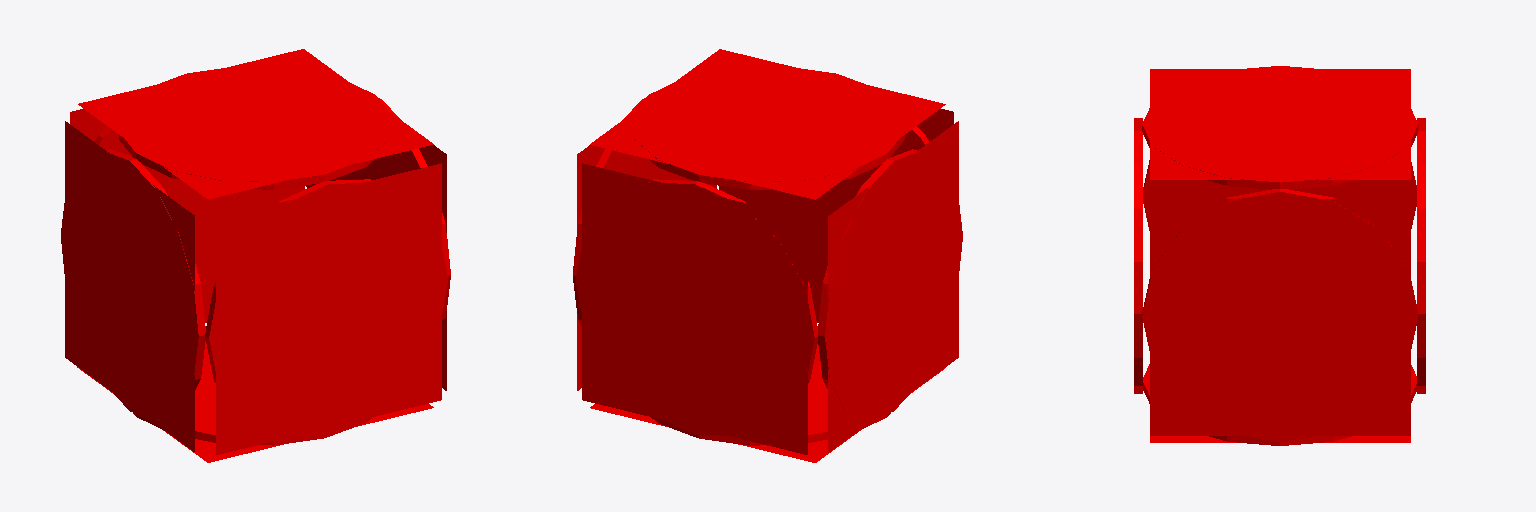
File: game_cube_faces.obj
The picture shows the model from 3 angles: view 1: azimuth 30°, elevation 25°; view 2: azimuth 150°, elevation 25°; view 3: azimuth 270°, elevation 25°; orthographic projection.
Parts seen in each view (by area): view 1: Plane001, Cylinder017, Cylinder015, Plane004, Cylinder014, Plane006, Cylinder016, Cylinder018, Cylinder013, Plane005, Plane003, Plane002; view 2: Cylinder014, Cylinder017, Cylinder015, Plane002, Plane004, Cylinder013, Plane006, Cylinder016, Cylinder018, Plane005, Plane003, Plane001; view 3: Cylinder018, Cylinder015, Plane003, Plane006, Cylinder017, Cylinder013, Cylinder014, Cylinder016, Plane005.
Part boxes in pixels (x1,y1,x2,y2): Plane001: (216, 163, 441, 454); Cylinder017: (61, 149, 205, 420); Cylinder015: (119, 66, 392, 189); Plane004: (65, 121, 194, 451); Cylinder014: (95, 126, 305, 322); Plane006: (78, 49, 433, 199); Cylinder016: (133, 342, 370, 445); Cylinder018: (306, 98, 450, 324); Cylinder013: (205, 179, 447, 435); Plane005: (77, 367, 433, 462); Plane003: (419, 145, 446, 390); Plane002: (70, 109, 106, 141); Cylinder014: (576, 179, 817, 435); Cylinder017: (818, 149, 962, 420); Cylinder015: (631, 66, 904, 189); Plane002: (582, 163, 807, 454); Plane004: (828, 121, 958, 452); Cylinder013: (719, 126, 928, 322); Plane006: (590, 49, 945, 199); Cylinder016: (651, 344, 890, 445); Cylinder018: (573, 98, 716, 325); Plane005: (590, 367, 945, 462); Plane003: (577, 145, 604, 390); Plane001: (917, 109, 953, 141); Cylinder018: (1142, 189, 1417, 441); Cylinder015: (1142, 66, 1417, 189); Plane003: (1150, 199, 1410, 435); Plane006: (1150, 69, 1410, 179); Cylinder017: (1143, 160, 1416, 230); Cylinder013: (1134, 118, 1142, 393); Cylinder014: (1417, 118, 1425, 393); Cylinder016: (1143, 364, 1416, 445); Plane005: (1150, 436, 1410, 442).
Bounding box in the file's own units: 0.9913 × 0.9902 × 0.9918.